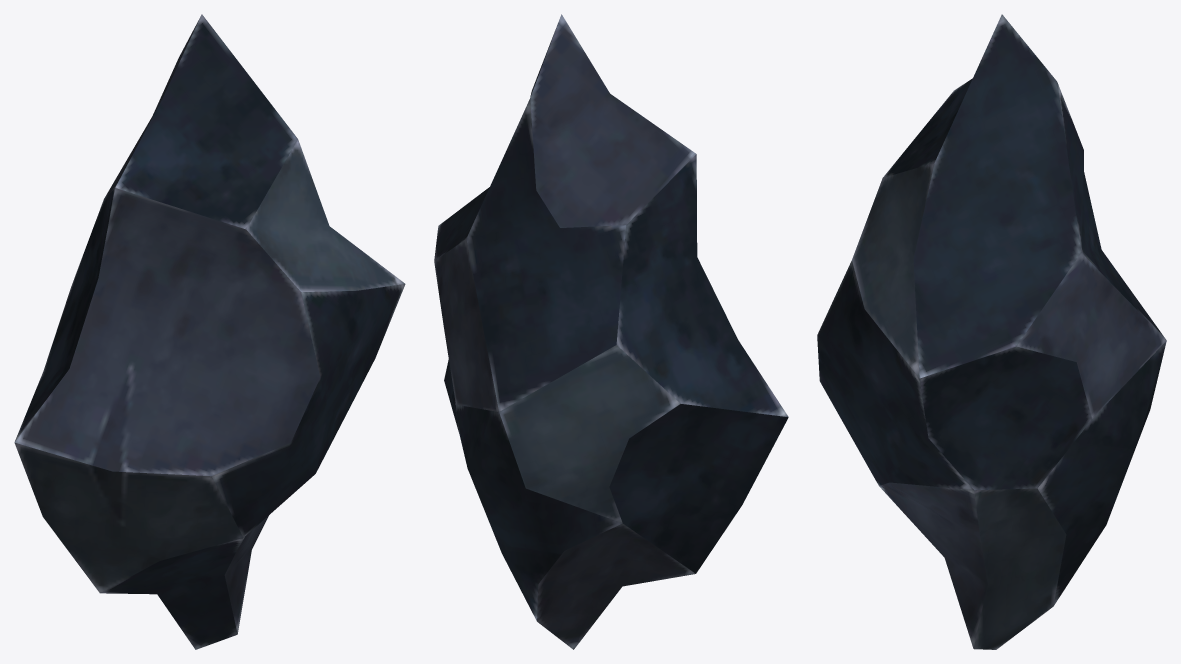
File: Item_Ore_I.glb
3 views of the same model, side by side, from view 1: azimuth 30°, elevation 25°; view 2: azimuth 150°, elevation 25°; view 3: azimuth 270°, elevation 25° (orthographic).
Visible parts, largest first — view 1: Item_Ore_I; view 2: Item_Ore_I; view 3: Item_Ore_I.
Boxes of the visible parts, x1=… form: Item_Ore_I: x1=14, y1=14, x2=405, y2=649; Item_Ore_I: x1=434, y1=14, x2=788, y2=649; Item_Ore_I: x1=817, y1=14, x2=1166, y2=649.
Bounding box in the file's own units: 0.5693 × 0.9297 × 0.46.
1 material, 1 textured.
